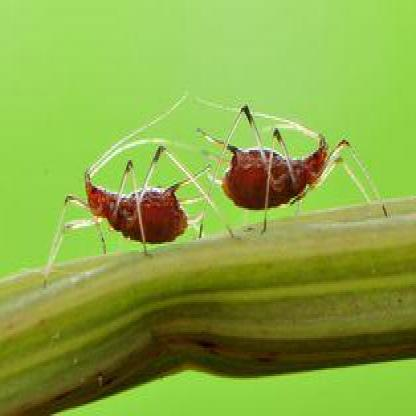aphid: (199, 96, 393, 254), (42, 119, 209, 275)
